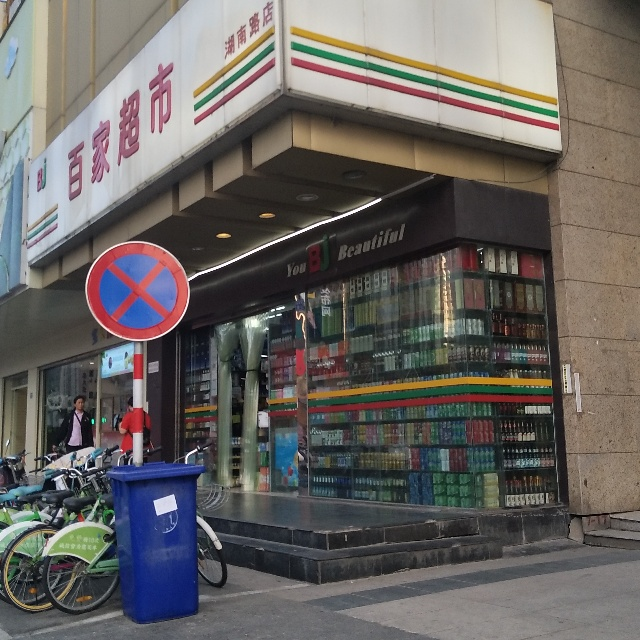stop: (102, 255, 181, 328)
